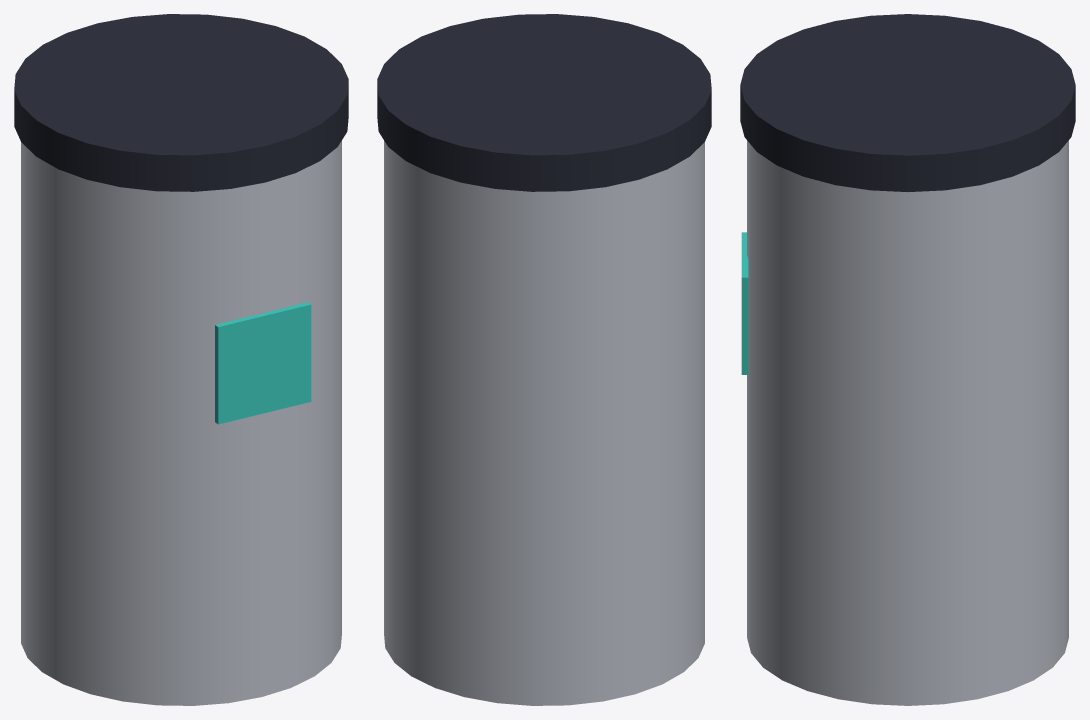
Rendered from mal-030.glb.
The picture shows the model from 3 angles, left to right: view 1: azimuth 30°, elevation 25°; view 2: azimuth 150°, elevation 25°; view 3: azimuth 270°, elevation 25°; orthographic projection.
Parts seen in each view (by area): view 1: body, lid, recycle_label; view 2: body, lid; view 3: body, lid, recycle_label.
Part boxes in pixels (x1,y1,x2,y2): body: (21, 141, 341, 705); lid: (14, 14, 348, 191); recycle_label: (215, 302, 311, 424); body: (384, 141, 704, 705); lid: (377, 14, 711, 191); body: (747, 140, 1068, 705); lid: (740, 14, 1075, 191); recycle_label: (741, 232, 748, 374).
Bounding box in the file's own units: 0.5 × 0.91 × 0.5.
